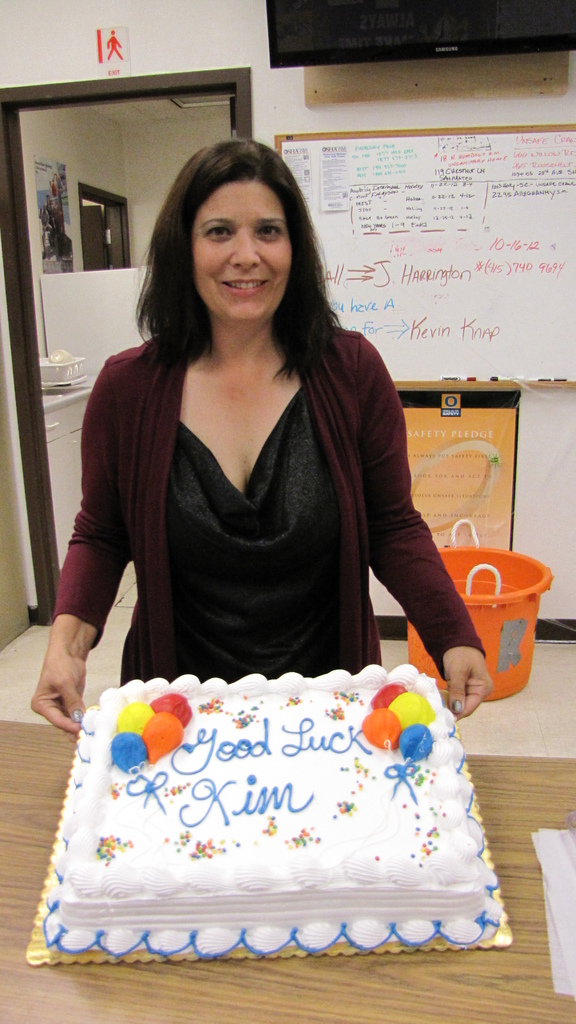cake: (44, 664, 495, 956)
